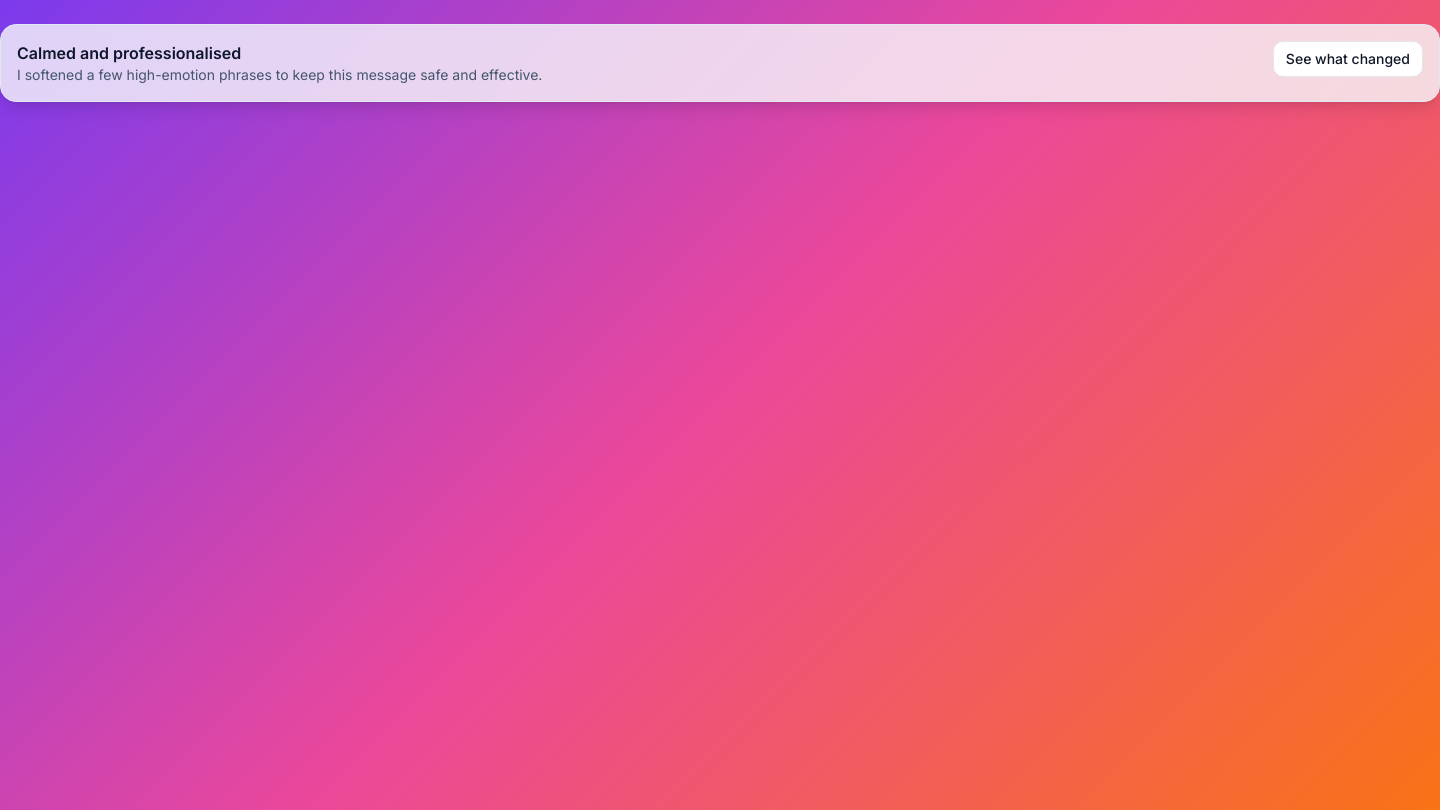
DeescalationBanner › renders the English helper text for threat guidance
Click the button "See what changed" at (1348, 59), box [1273, 41, 1423, 77]
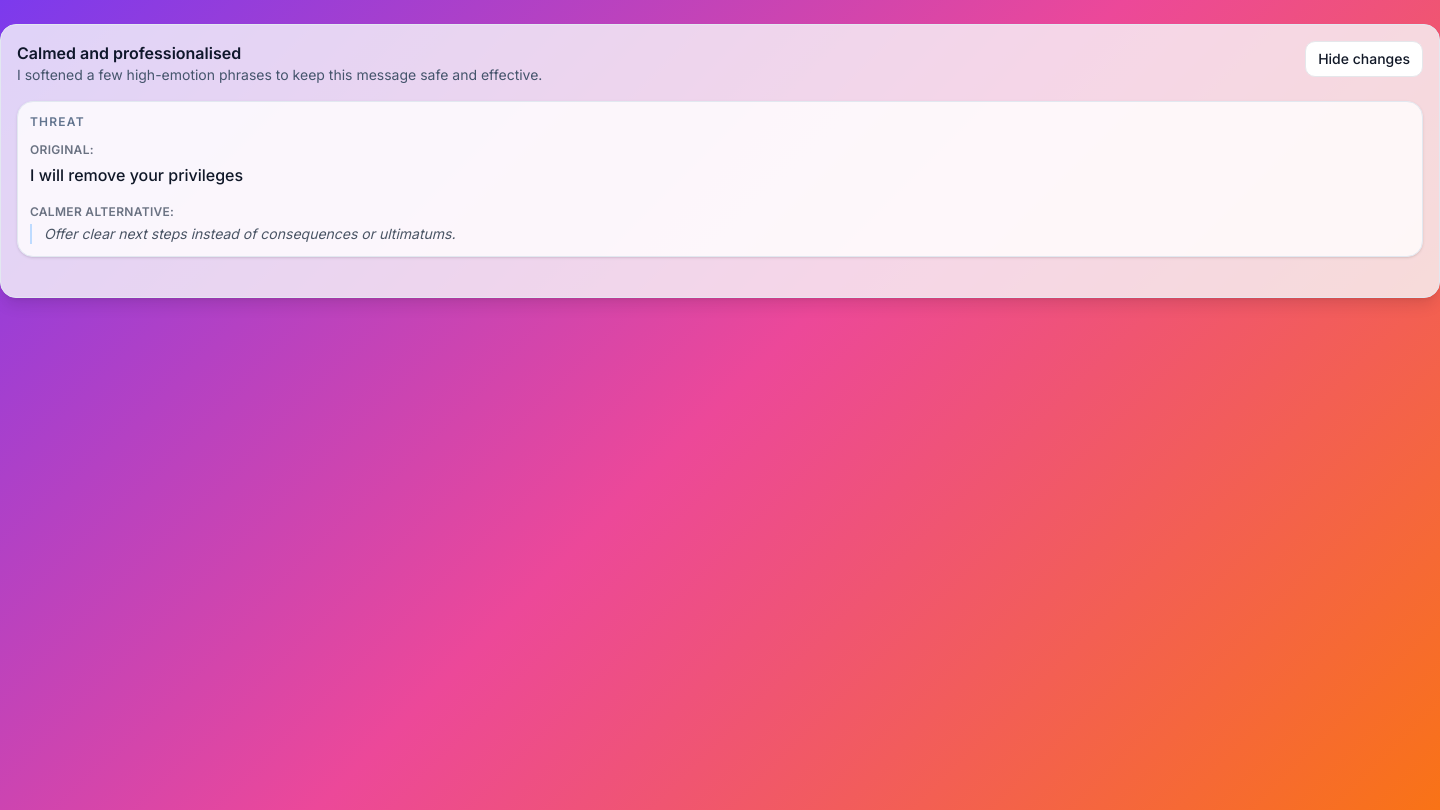
Check: the text "Offer clear next steps instead of consequences or ultimatums." is shown, box [30, 224, 1410, 244]
